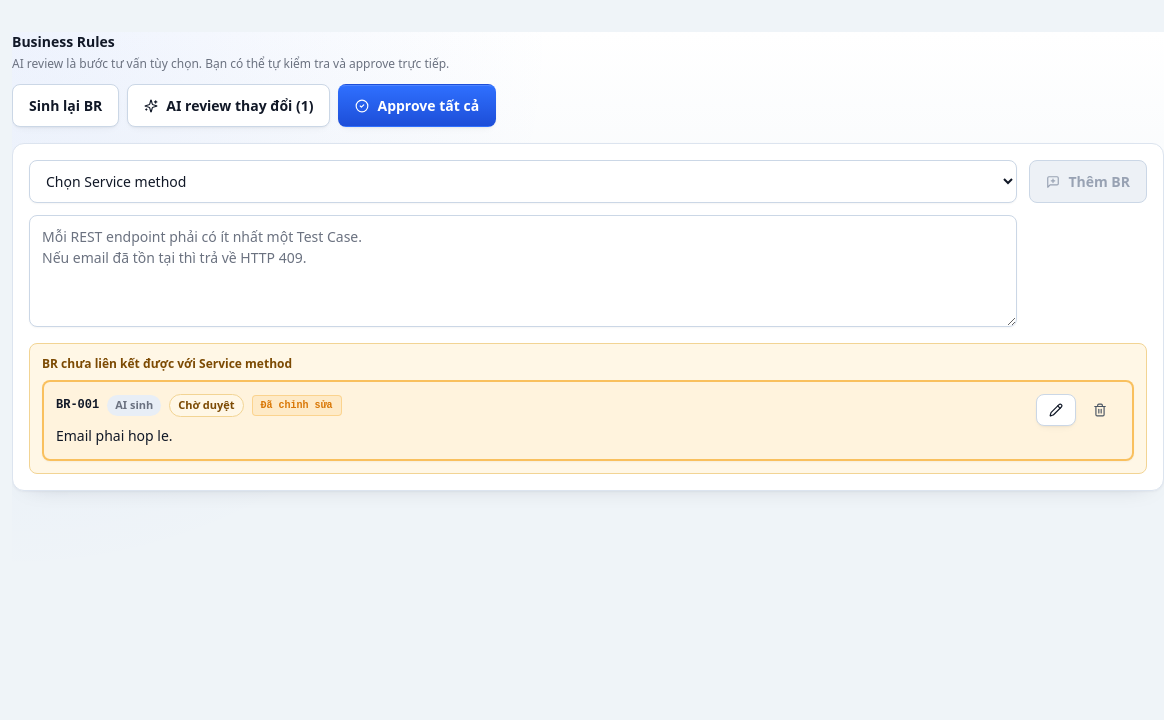
BusinessRulesPanel › shows a fresh mismatch review and allows approval without applying an AI suggestion
Click the button "AI review thay đổi (1)" at x=229, y=106, box [127,84,330,127]
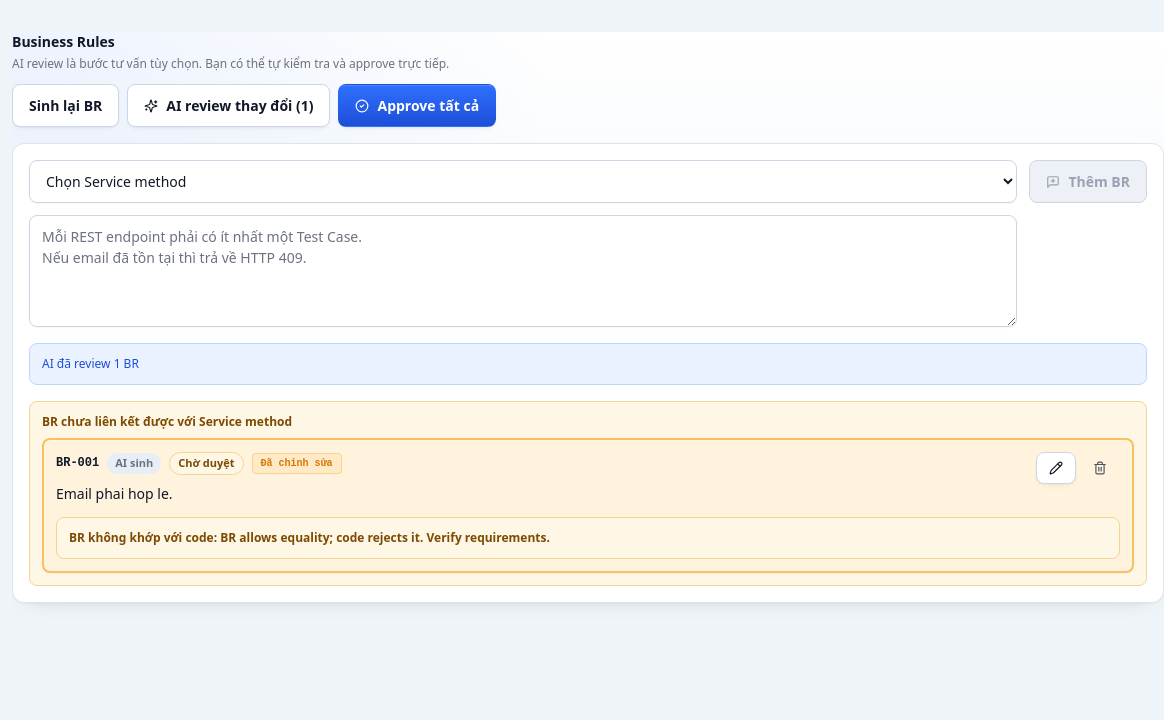
Expected: the button "Approve tất cả" is enabled, [338,84,496,127]
Now the text "BR không khớp với code: BR allows equality" is shown, box [69,529,550,546]
Now the text "AI đã review 1 BR" is shown, box [29,343,1147,385]
